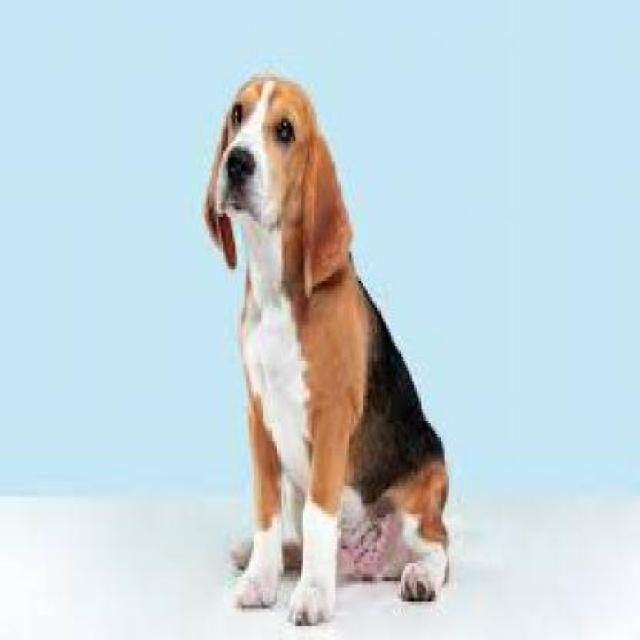Dog: (201, 74, 457, 631)
